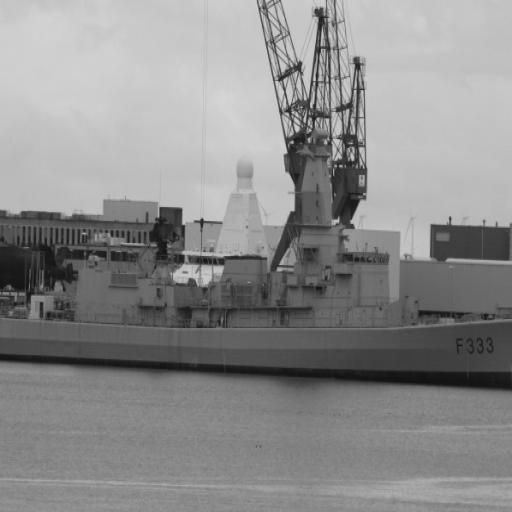Fragata: (1, 222, 512, 395)
